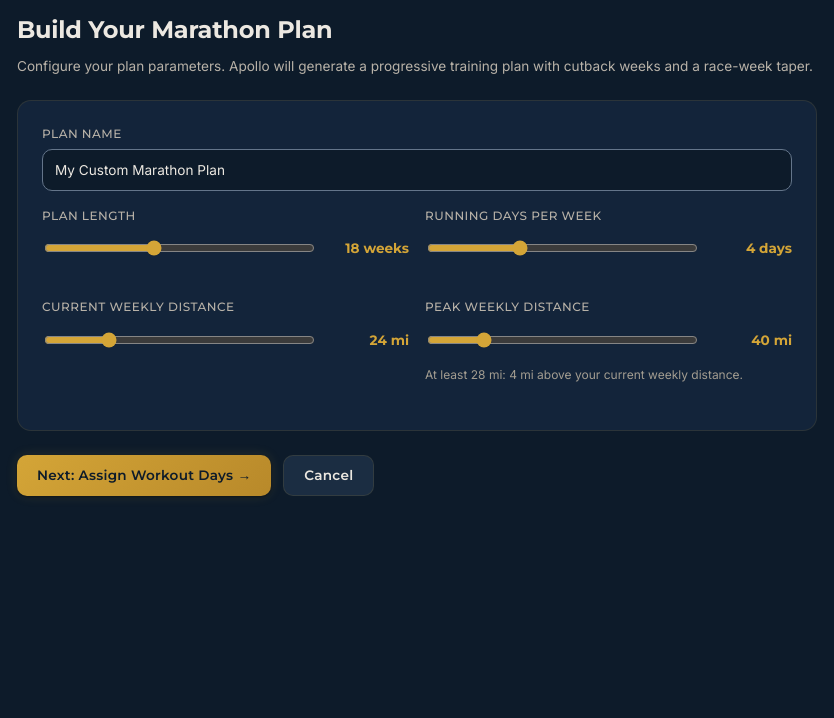
Test: PlanBuilder › preview: phase-coloured bars are labelled buttons with a text legend; accordions expose aria-expanded/controls
The image size is (834, 718).
Click the button "Next: Assign Workout Days →".
click(144, 476)  # box x1=17 y1=455 x2=271 y2=496
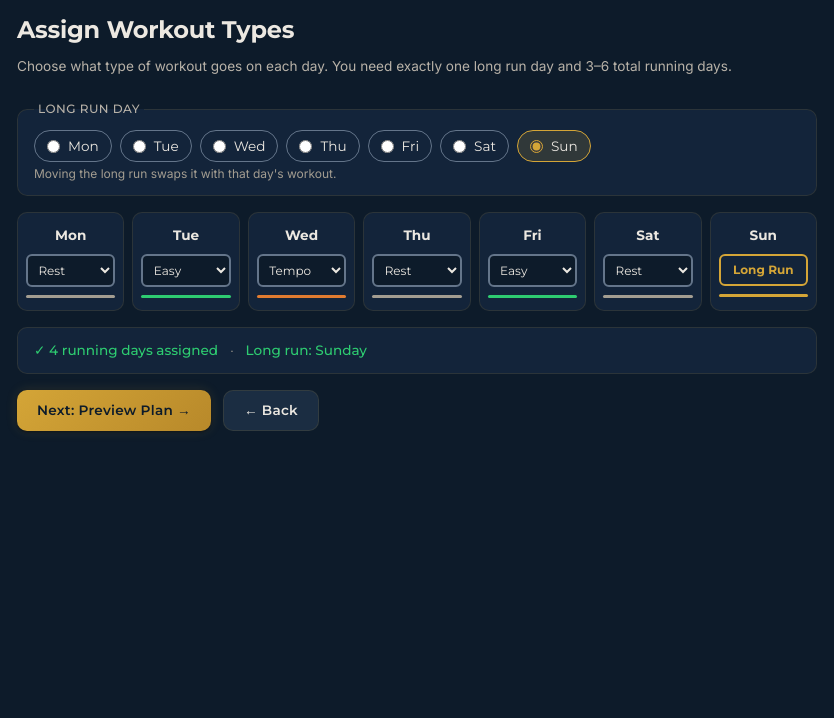
Click the button "Next: Preview Plan →".
click(114, 411)  # box x1=17 y1=390 x2=211 y2=431
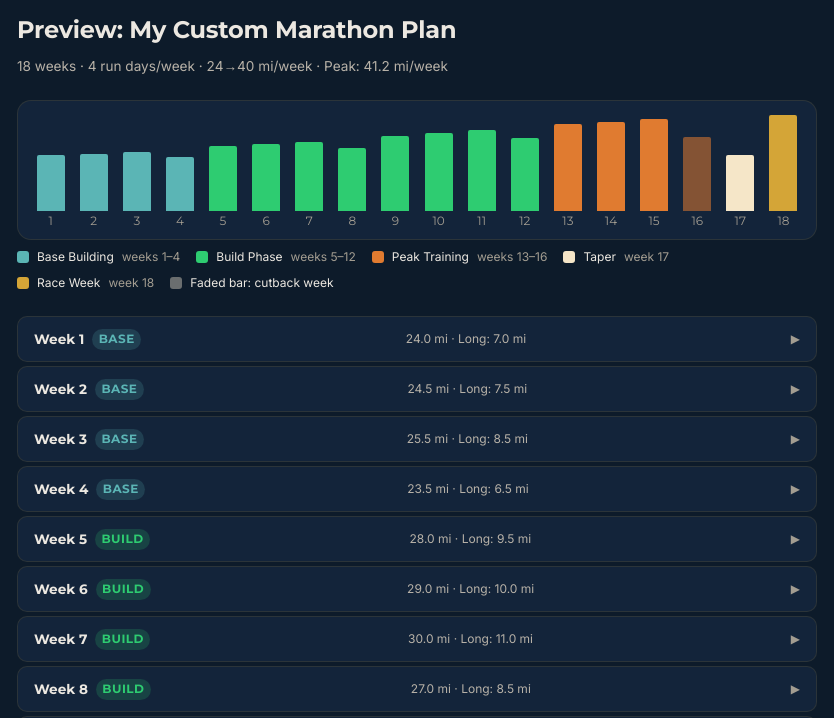
Expected: the number of buttons "1" is 18
Expected: the list named "Training phases" shows "Base Building", x1=37 y1=249 x2=114 y2=264
Expected: the list named "Training phases" shows "Taper", x1=583 y1=249 x2=616 y2=264
Click the button "3".
click(137, 170)  # box x1=116 y1=113 x2=157 y2=227
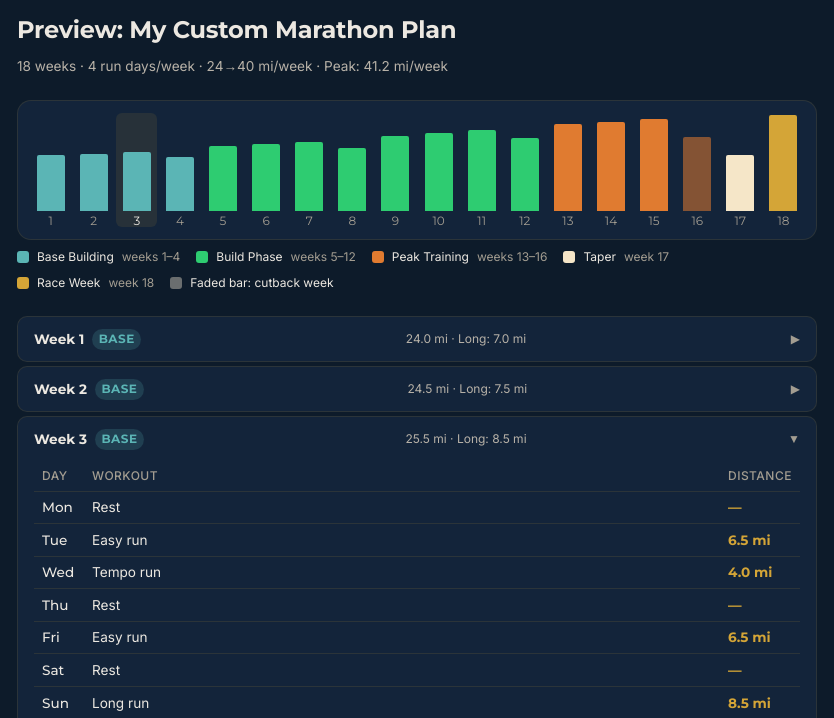
Expected: the button "Week 3 Base 25.5 mi · Long: 8.5 mi ▼" is expanded
Expected: the button "3" is expanded, x1=116 y1=113 x2=157 y2=227
Expected: the number of rows is 8
Click the button "Week 3 Base 25.5 mi · Long: 8.5 mi ▼".
click(417, 439)  # box x1=18 y1=417 x2=816 y2=461
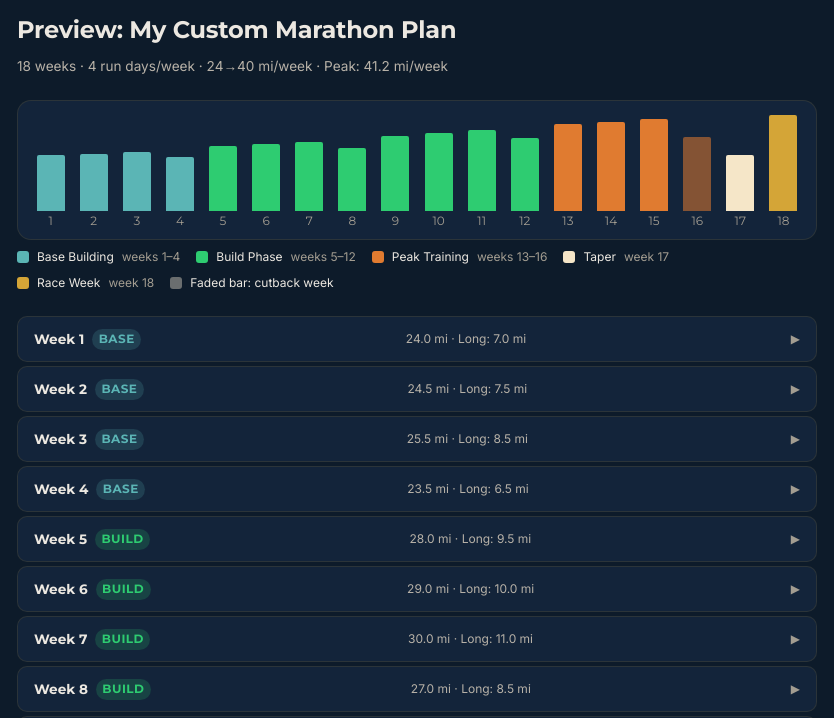
Expected: the button "Week 3 Base 25.5 mi · Long: 8.5 mi ▶" is collapsed, x1=18 y1=417 x2=816 y2=461
